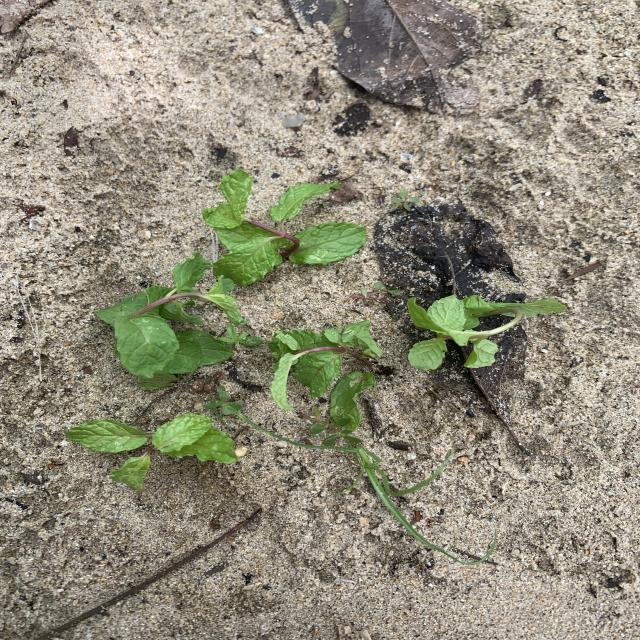crop: (96, 253, 241, 389), (201, 169, 366, 283), (64, 414, 236, 489), (268, 321, 380, 430), (408, 295, 567, 369)
weed: (232, 410, 454, 550), (301, 406, 360, 445), (205, 385, 242, 416), (349, 282, 399, 302), (216, 326, 263, 347), (392, 189, 419, 211)
